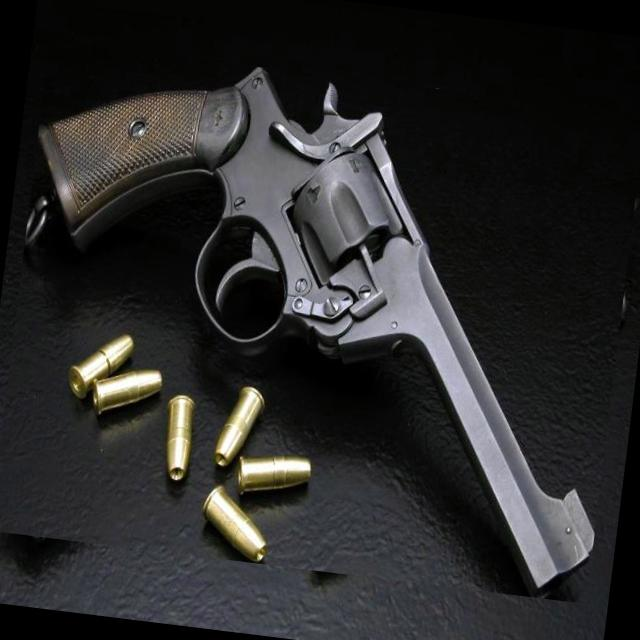Gun: (38, 67, 594, 598)
